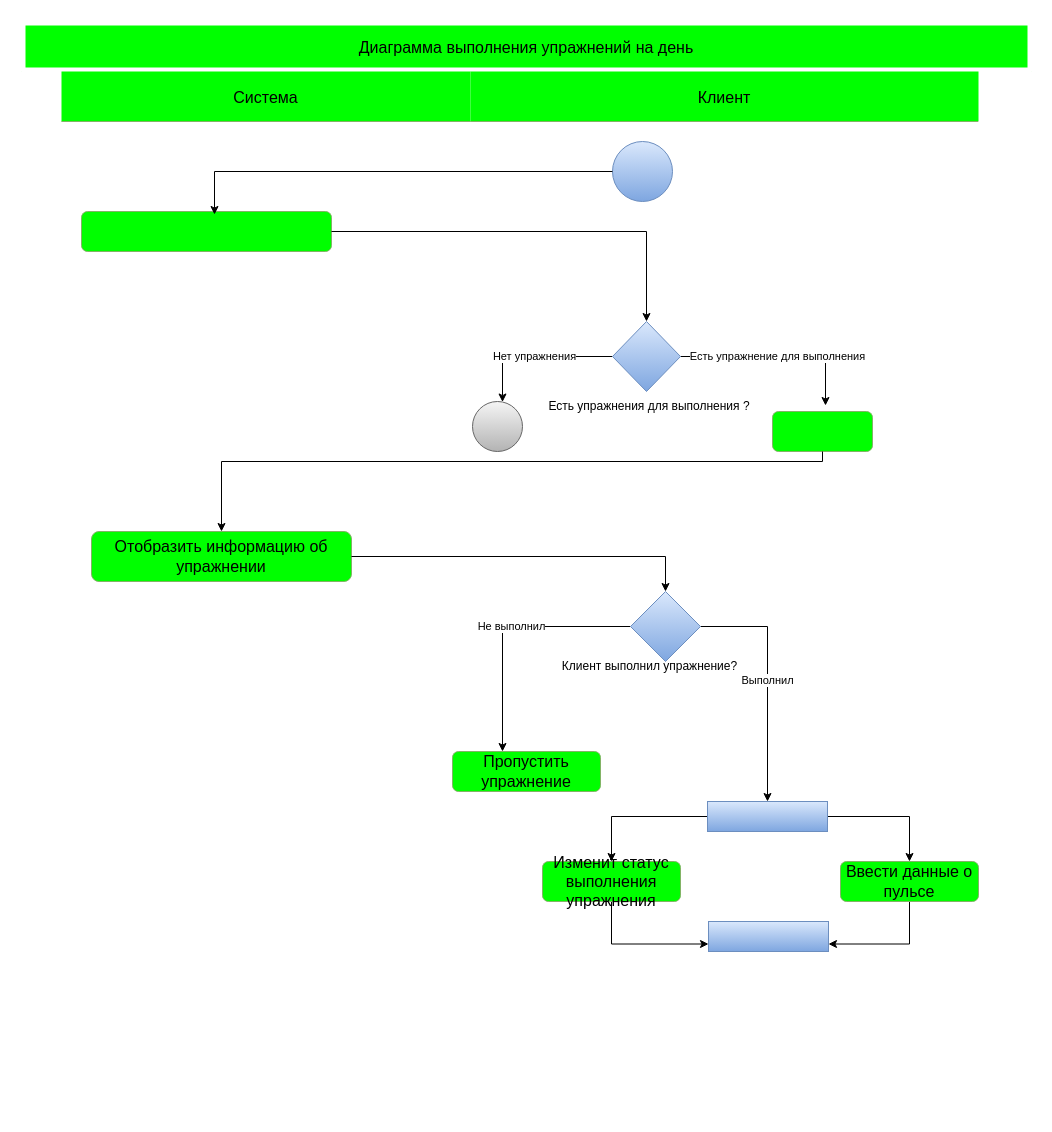
Some shapes in this 1052 by 1132 pixel diagram are drawn without their labels. Here are the shapes that lost their labels. From the top down, the centre of each, then its label:
At (x=206, y=231): "Вывести список упражнений на день".
At (x=822, y=431): "Выбрать Упражнение".
